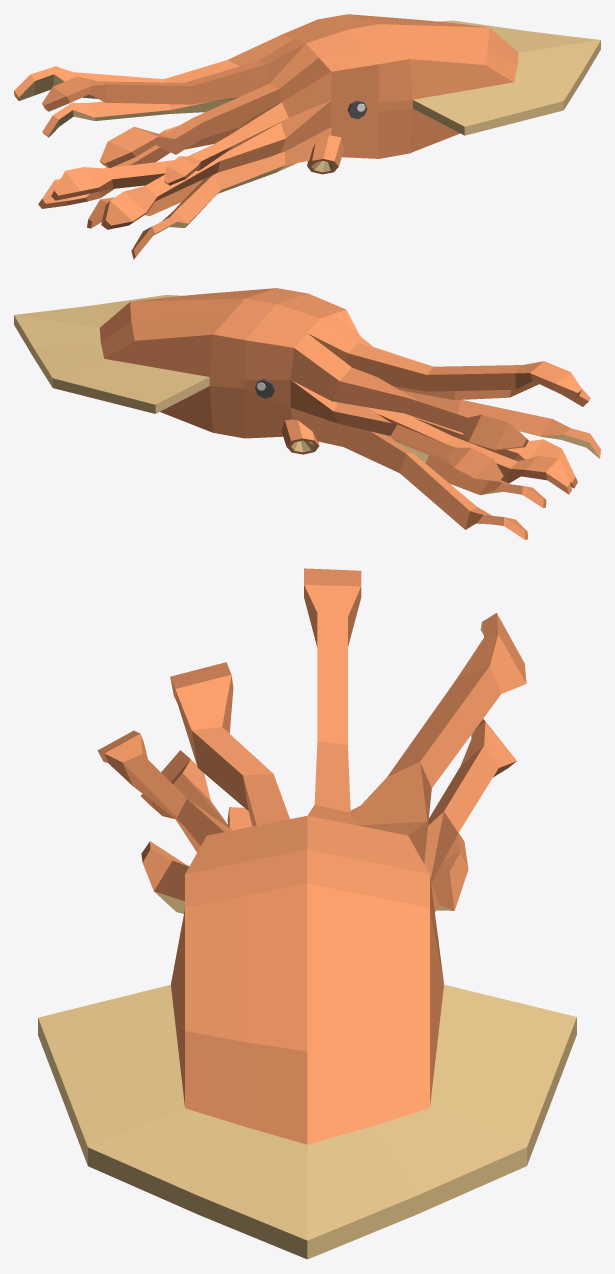
File: squid_from_poly_by_google (1)(1).glb
3 views of the same model, one above another, from view 1: azimuth 30°, elevation 25°; view 2: azimuth 150°, elevation 25°; view 3: azimuth 270°, elevation 25° (orthographic). The views are drawn at different scales.
Visible parts, largest first — view 1: Object_6, Object_4; view 2: Object_6, Object_4; view 3: Object_6, Object_4.
Part boxes in pixels (x1,y1,x2,y2): Object_6: (14, 14, 518, 259); Object_4: (18, 20, 600, 234); Object_6: (99, 288, 600, 539); Object_4: (14, 295, 599, 524); Object_6: (97, 568, 526, 1144); Object_4: (38, 623, 576, 1259).
Bounding box in the file's own units: 884 × 229 × 374.
